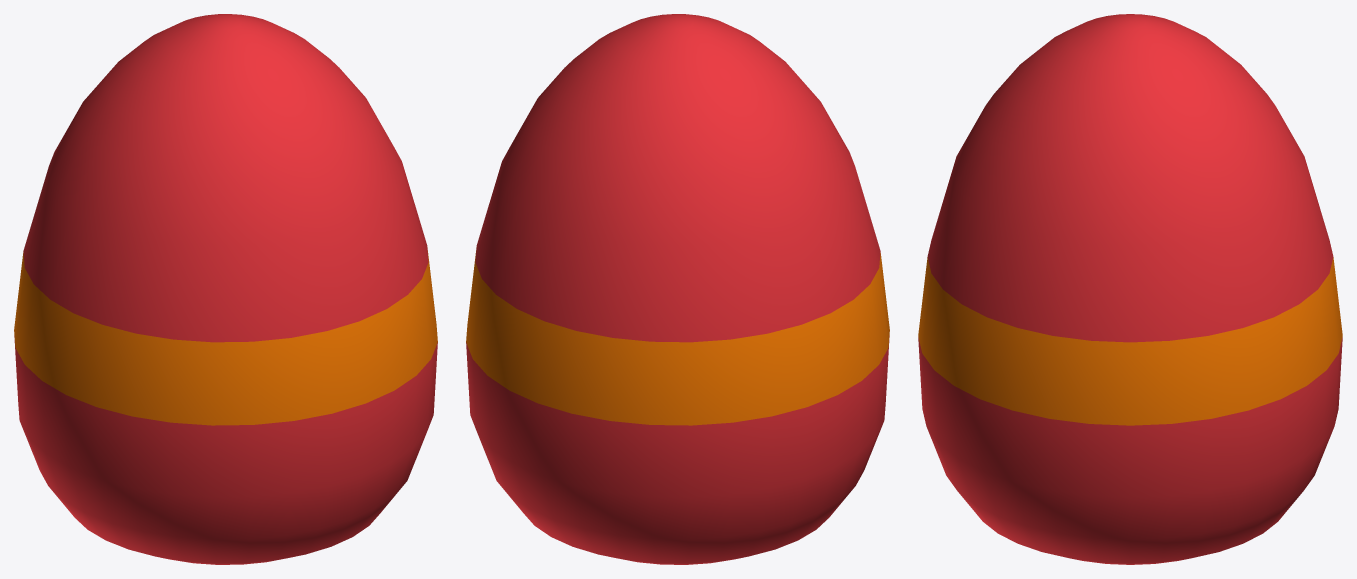
File: Fire_01.fbx
3 renders of one model, left to right at view 1: azimuth 30°, elevation 25°; view 2: azimuth 150°, elevation 25°; view 3: azimuth 270°, elevation 25°, orthographic.
Visible parts, largest first — view 1: Fire_01; view 2: Fire_01; view 3: Fire_01.
Boxes of the visible parts, x1=… form: Fire_01: x1=14, y1=14, x2=437, y2=564; Fire_01: x1=466, y1=14, x2=889, y2=564; Fire_01: x1=918, y1=14, x2=1342, y2=564.
Size of the model in its own units: 315 by 417 by 315.
